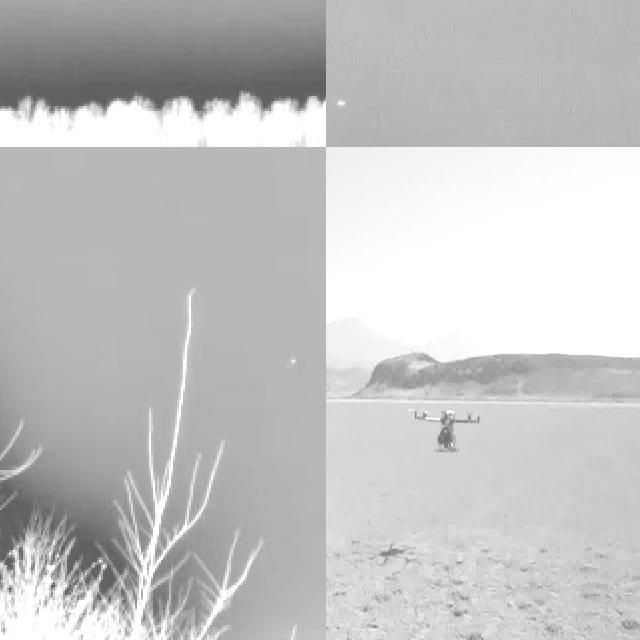0: (283, 346, 309, 382)
1: (329, 88, 363, 126)
drone: (410, 409, 482, 456)
